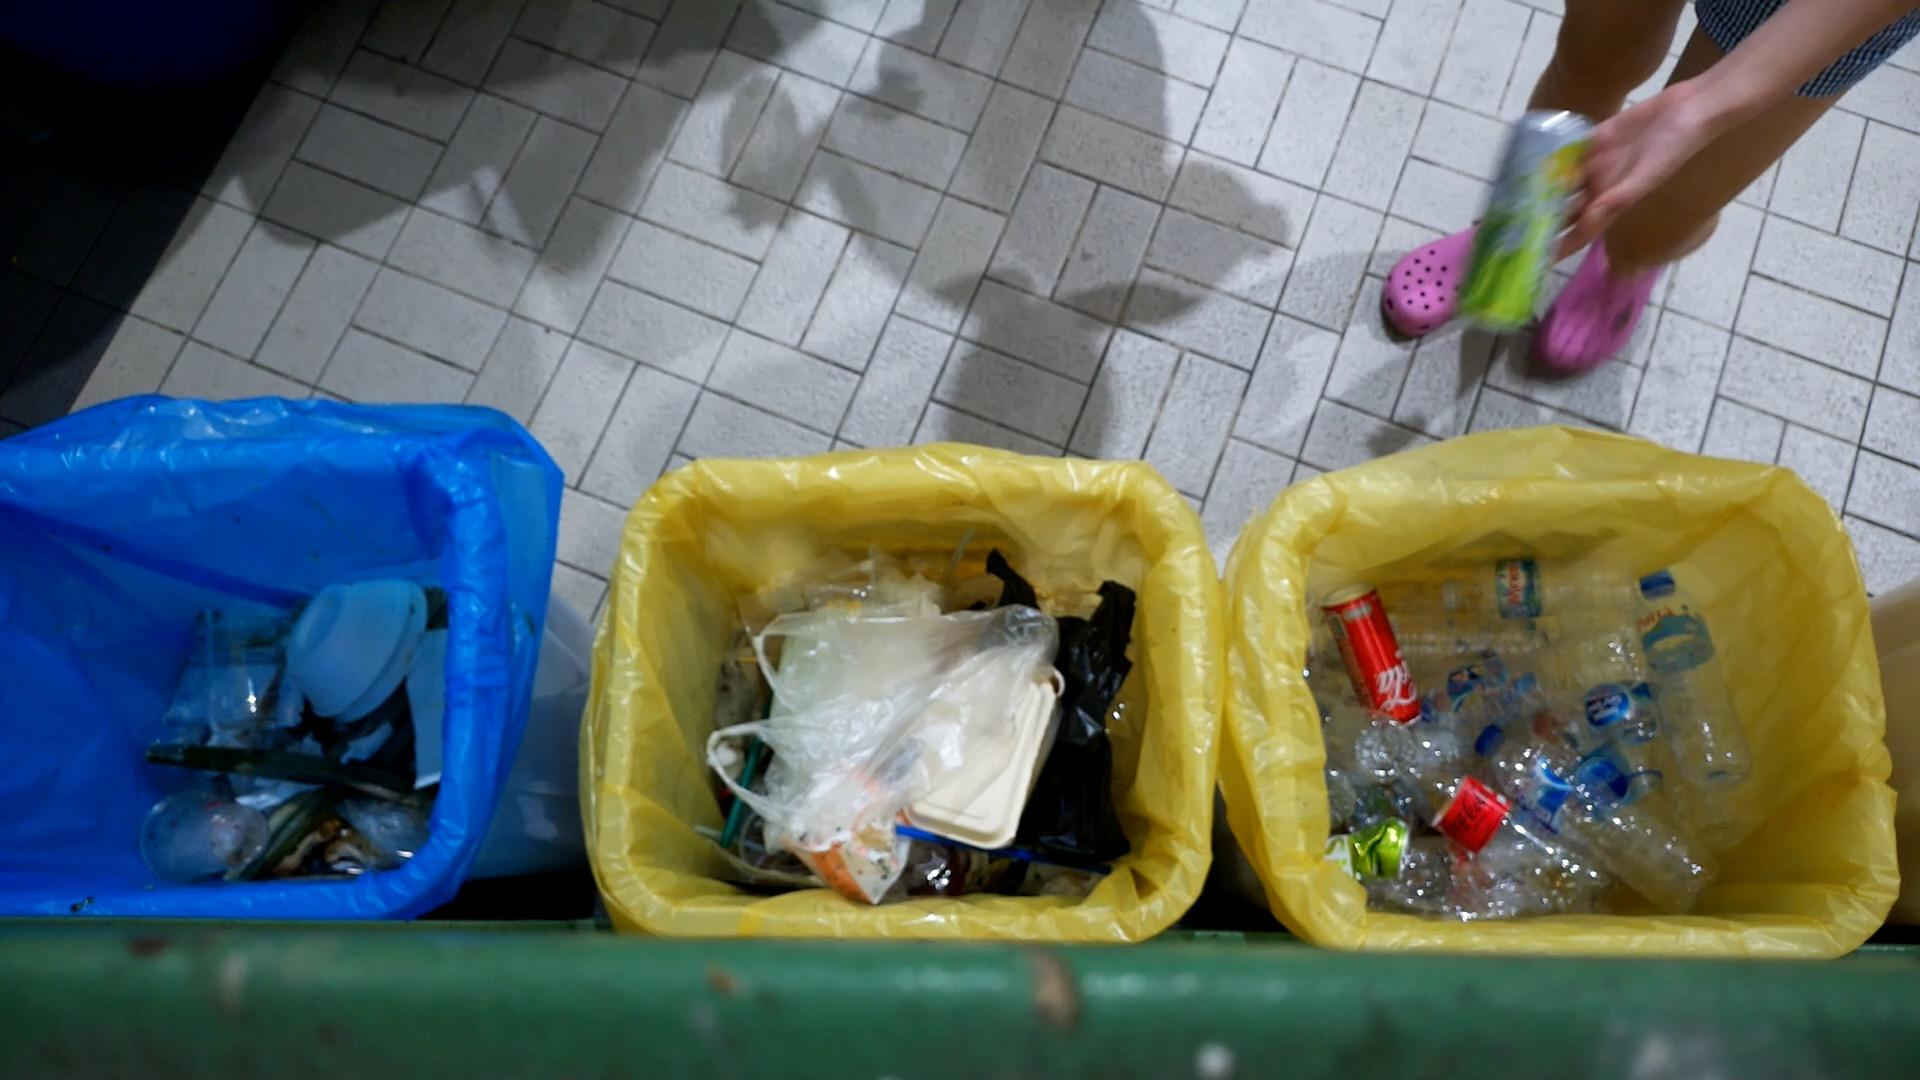can: (1448, 107, 1597, 336), (1323, 578, 1418, 727), (1331, 814, 1412, 882)
food container: (898, 655, 1063, 853), (284, 576, 429, 725)
plastic bag: (702, 609, 1051, 829), (981, 547, 1141, 872)
plastic bottle: (1474, 725, 1724, 919), (1389, 754, 1631, 919), (1639, 568, 1759, 793), (1437, 556, 1638, 624)
plastic cup: (140, 789, 273, 885)
snack packaging: (140, 612, 319, 783), (785, 774, 914, 906)
